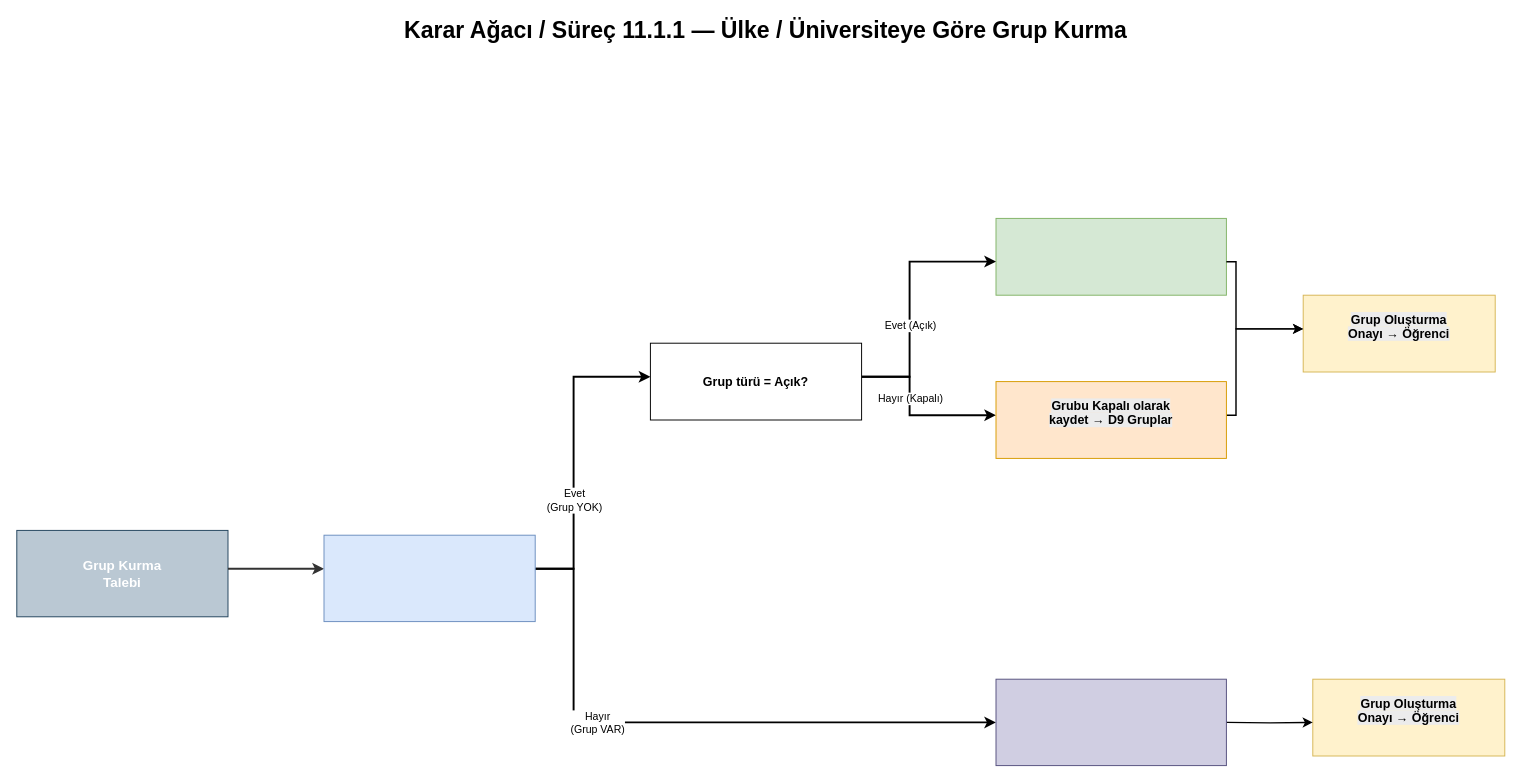
The diagram is 1522 pixels wide and 782 high, and some of its shapes have lost their labels. The shapes that lost their labels are listed below. From the top down, each one's box as (x1, y1, x2, y2) in pixels, then its label:
(995, 217, 1226, 295): Grubu Açık olarak kaydet → D9 Gruplar
(323, 534, 535, 622): Mevcut grup = 0?
(995, 678, 1226, 766): Mevcut grubu öğrenciye göster ← D9 Gruplar
